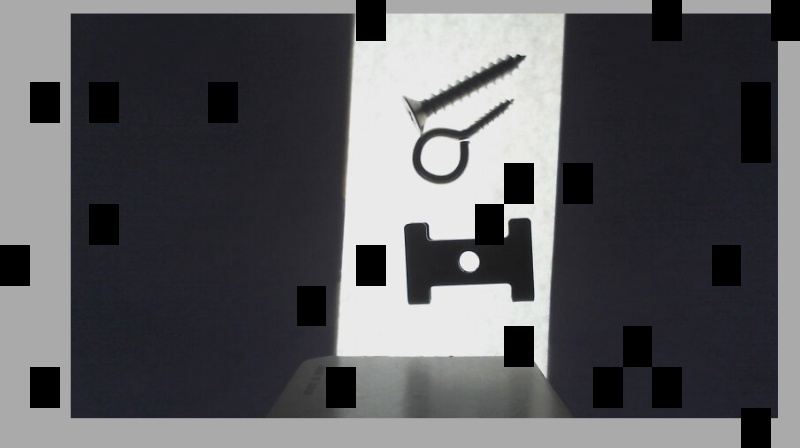O001: (409, 96, 515, 184)
O002: (401, 216, 536, 305)
S001: (400, 50, 530, 134)
